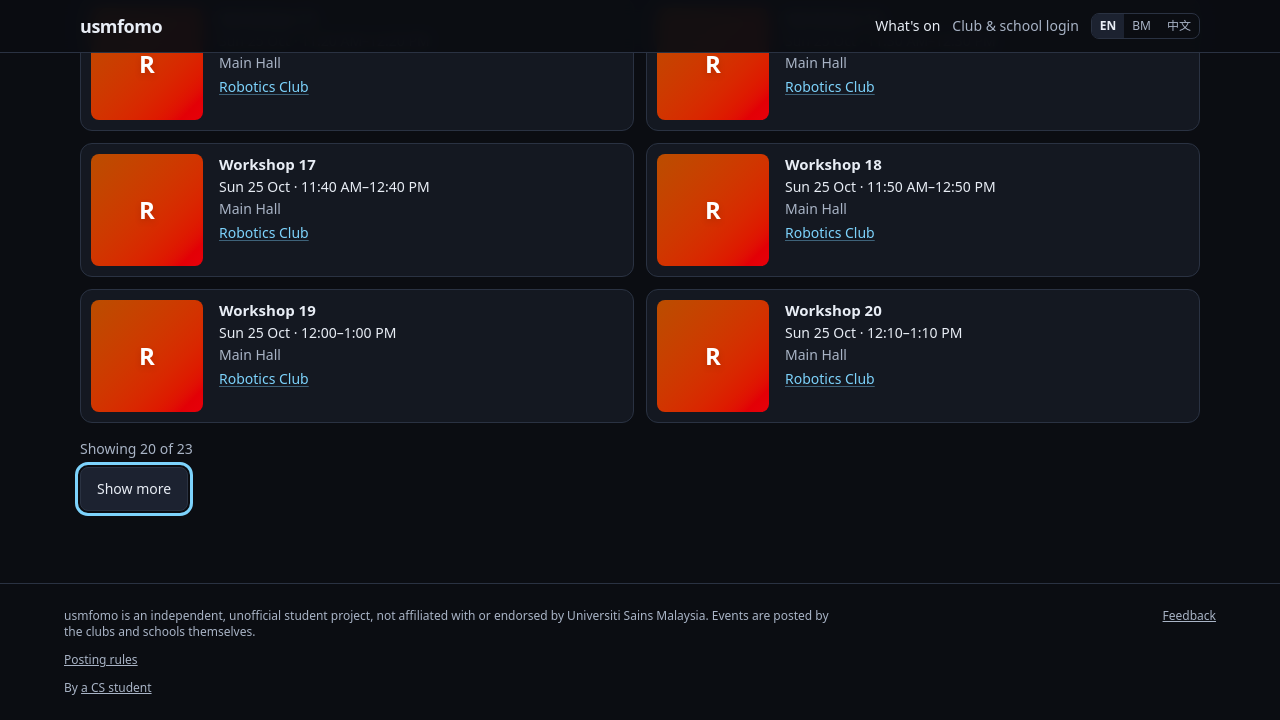
DashboardPage › pages with Show more and moves keyboard focus to the first new card
(page scrolled)
Expected: the text "Showing 20 of 23" is shown, [80, 439, 193, 459]
What coordinates should you click on to do the following:
click the button "Show more"
I would click on:
 (134, 489)
Its box is [80, 467, 188, 511].
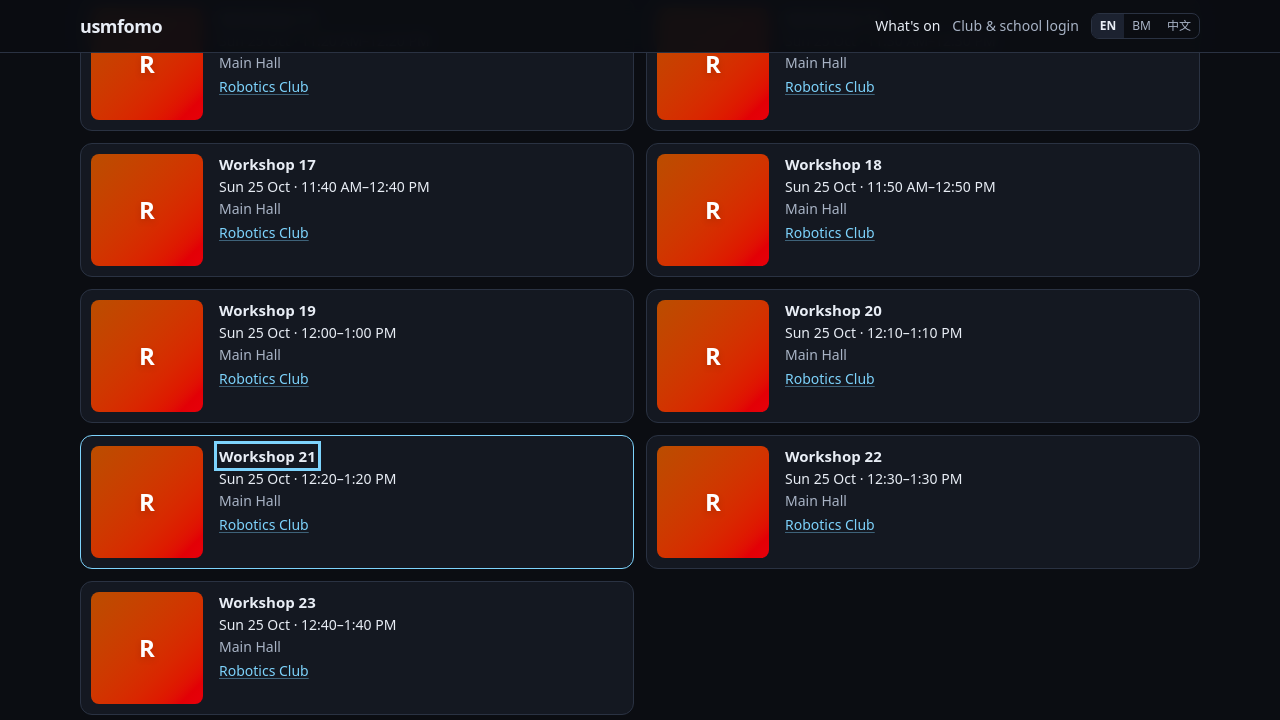
Expected: the button "Show more" is gone
Expected: the link "Workshop 21" is shown, [219, 446, 316, 466]
